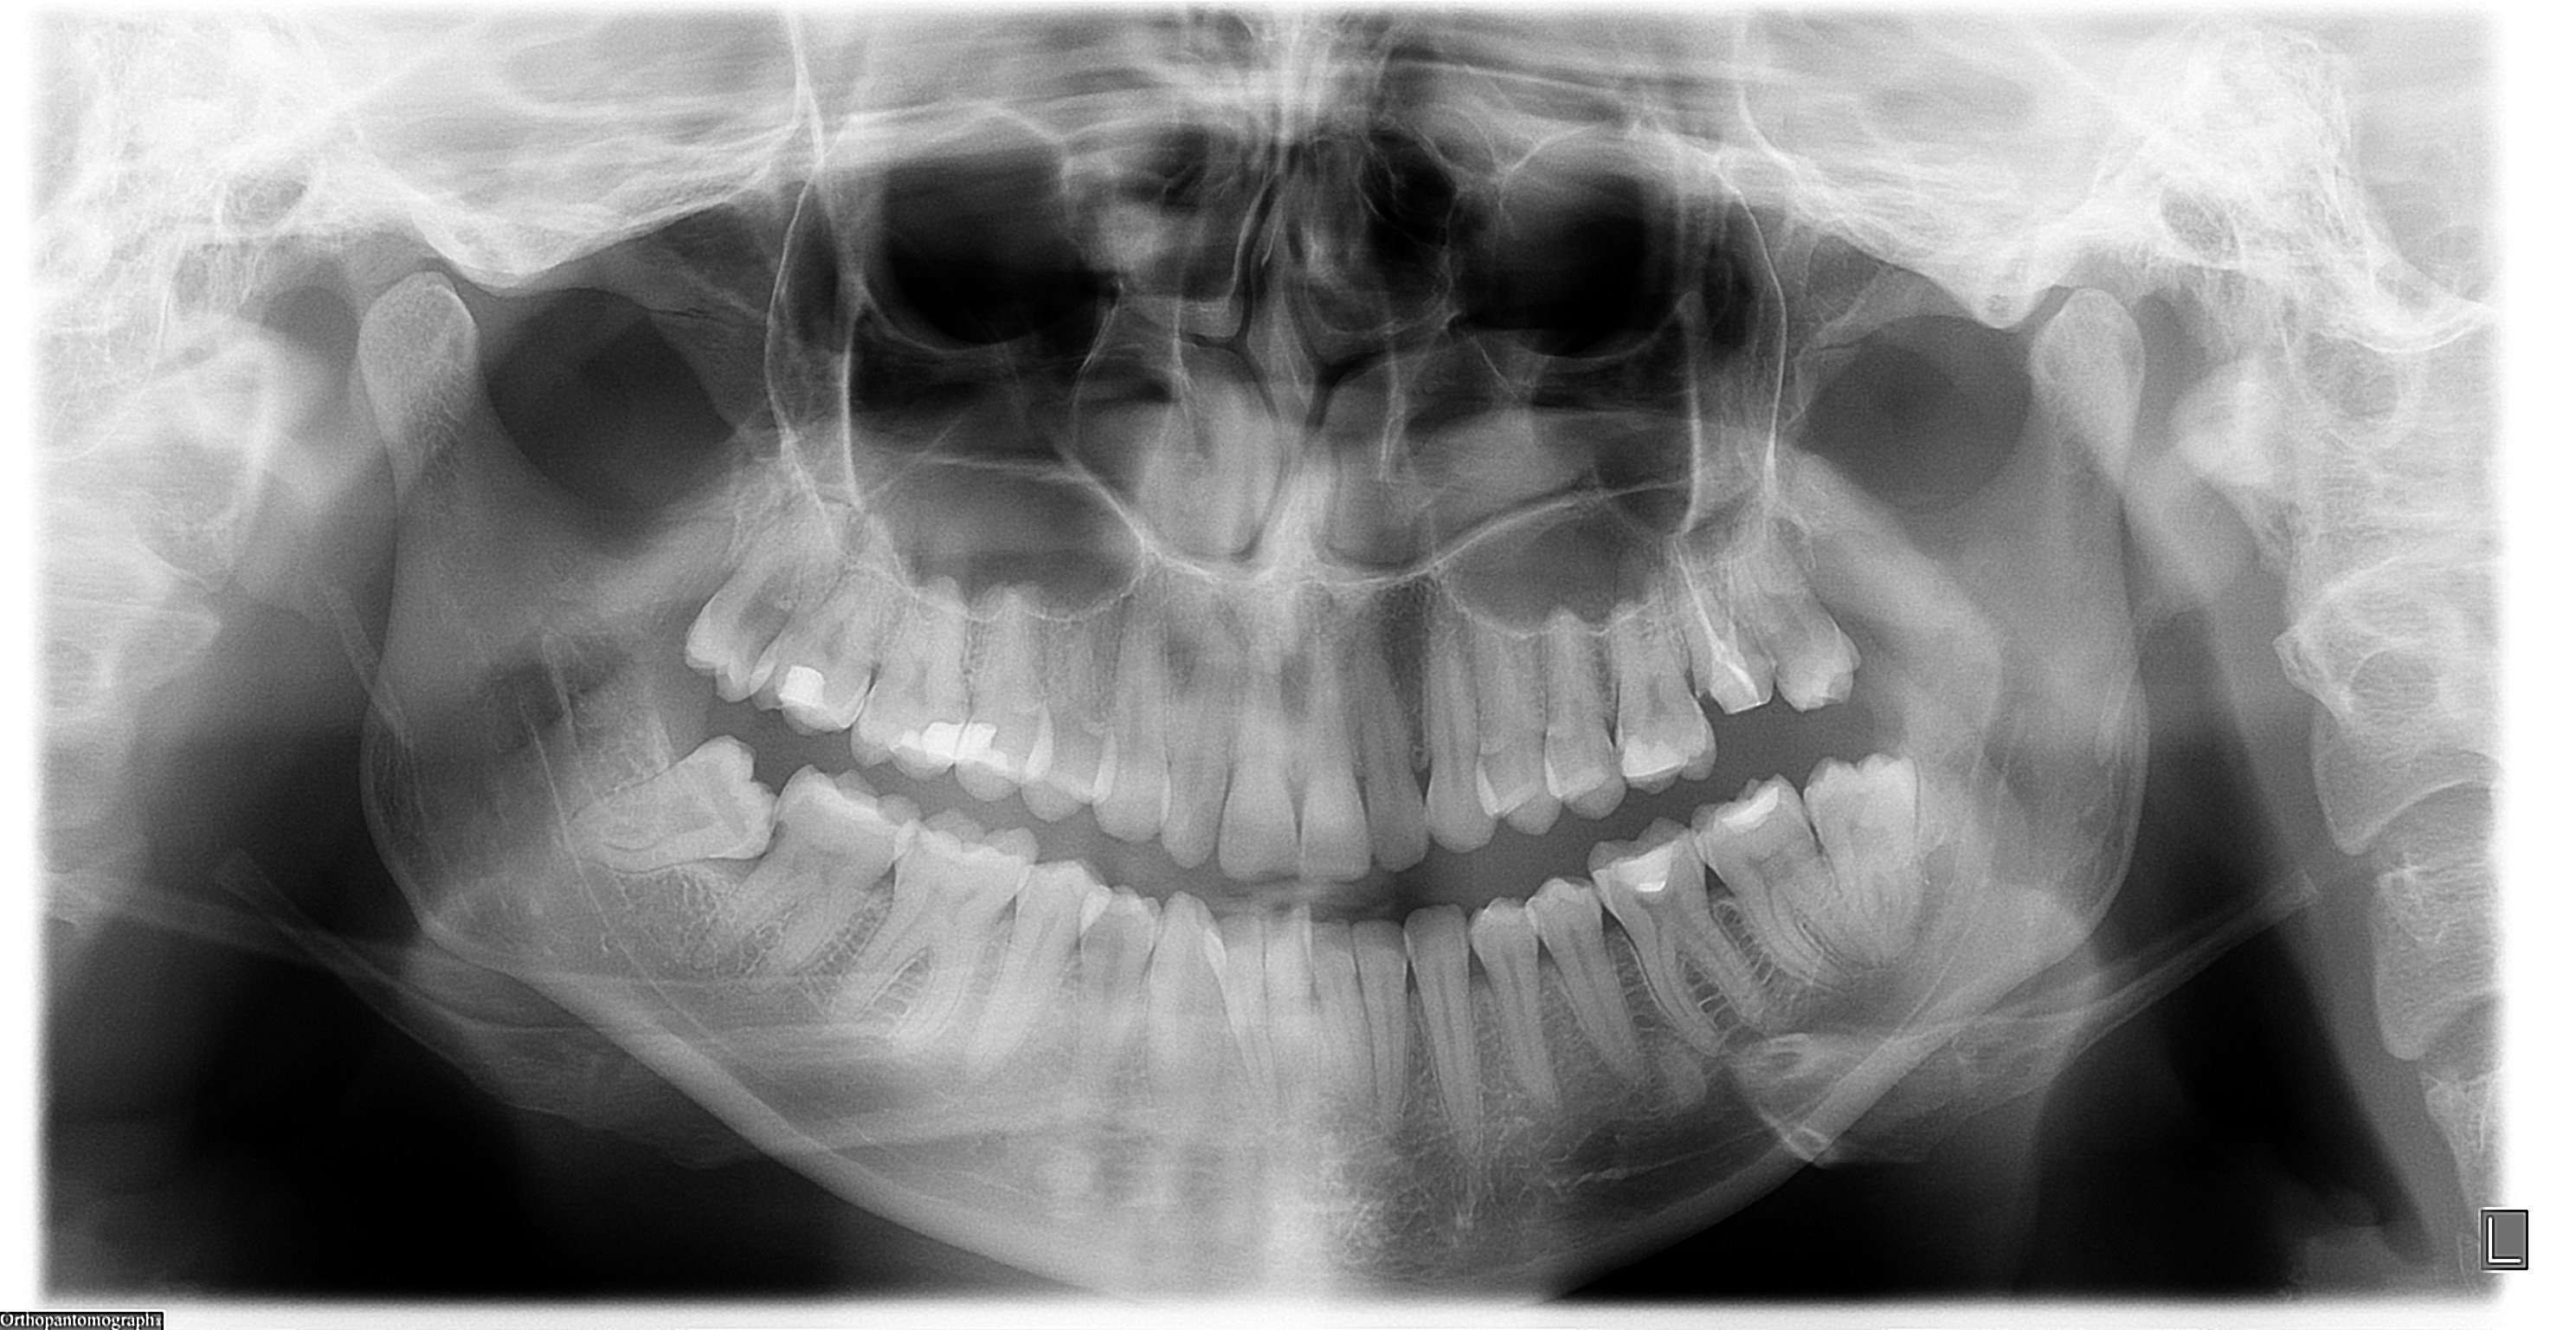CAR: (371, 392, 1158, 1247)
END: (804, 214, 2542, 865)
OBT: (829, 293, 2576, 1006)
